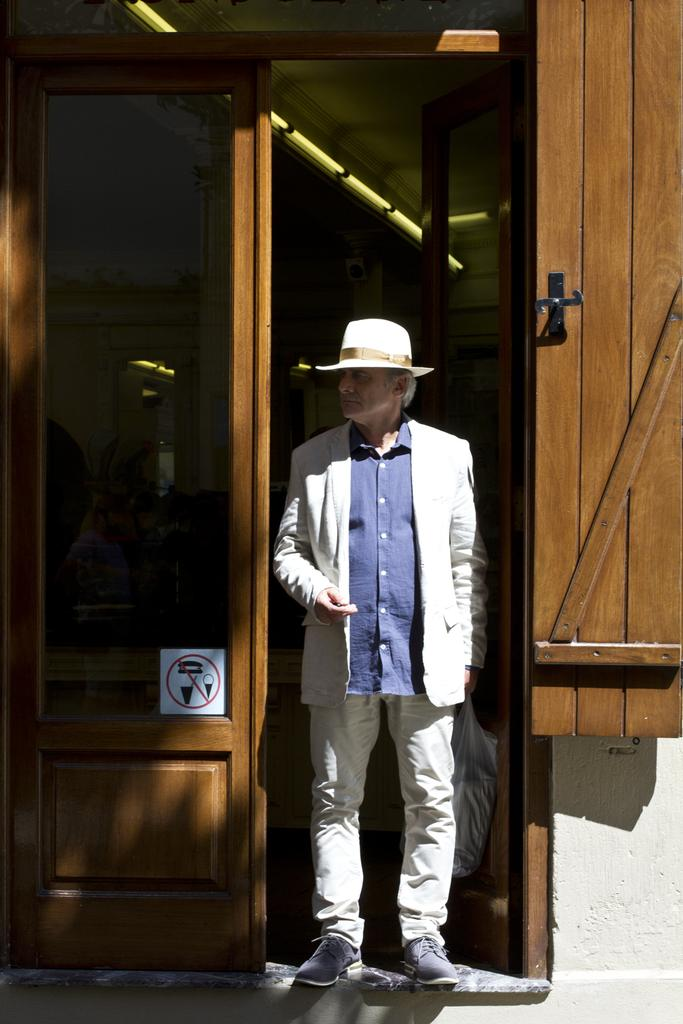Hat: (292, 316, 434, 378)
